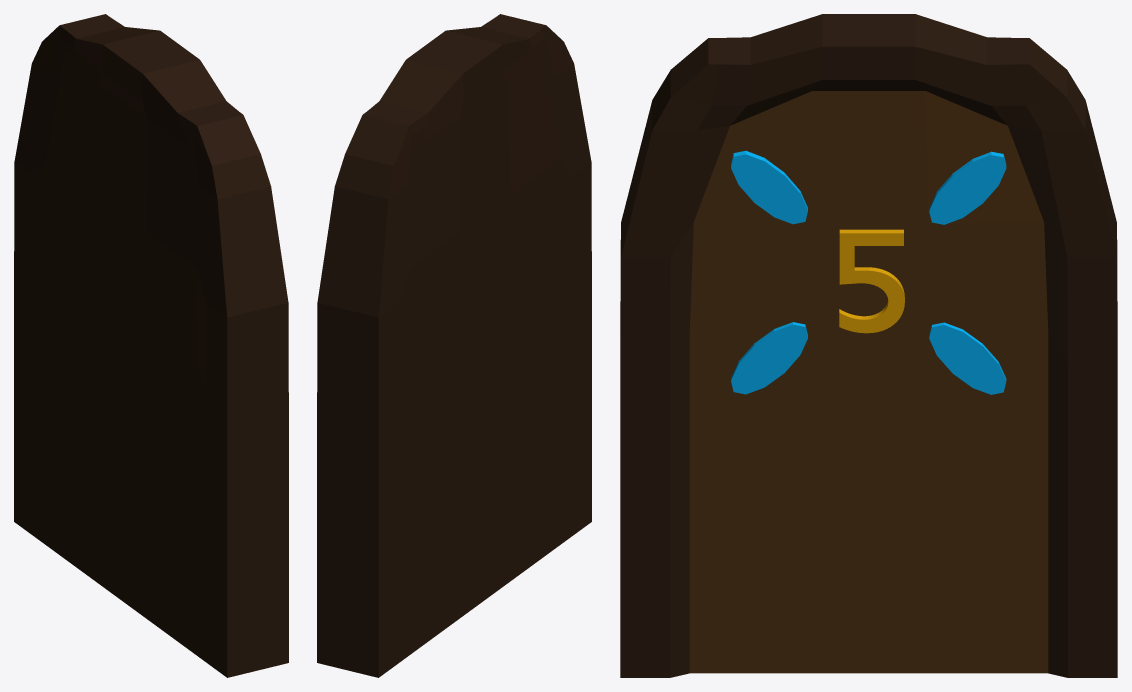
Rendered from Door5.glb.
3 views of the same model, side by side, from view 1: azimuth 30°, elevation 25°; view 2: azimuth 150°, elevation 25°; view 3: azimuth 270°, elevation 25° (orthographic). The views are drawn at different scales.
Parts seen in each view (by area): view 1: door1; view 2: door1; view 3: door1, 5.
Part boxes in pixels (x1=…): door1: x1=14, y1=14, x2=288, y2=677; door1: x1=317, y1=14, x2=591, y2=677; door1: x1=620, y1=14, x2=1117, y2=677; 5: x1=839, y1=229, x2=904, y2=333.
Bounding box in the file's own units: 0.3892 × 3.27 × 2.34.
